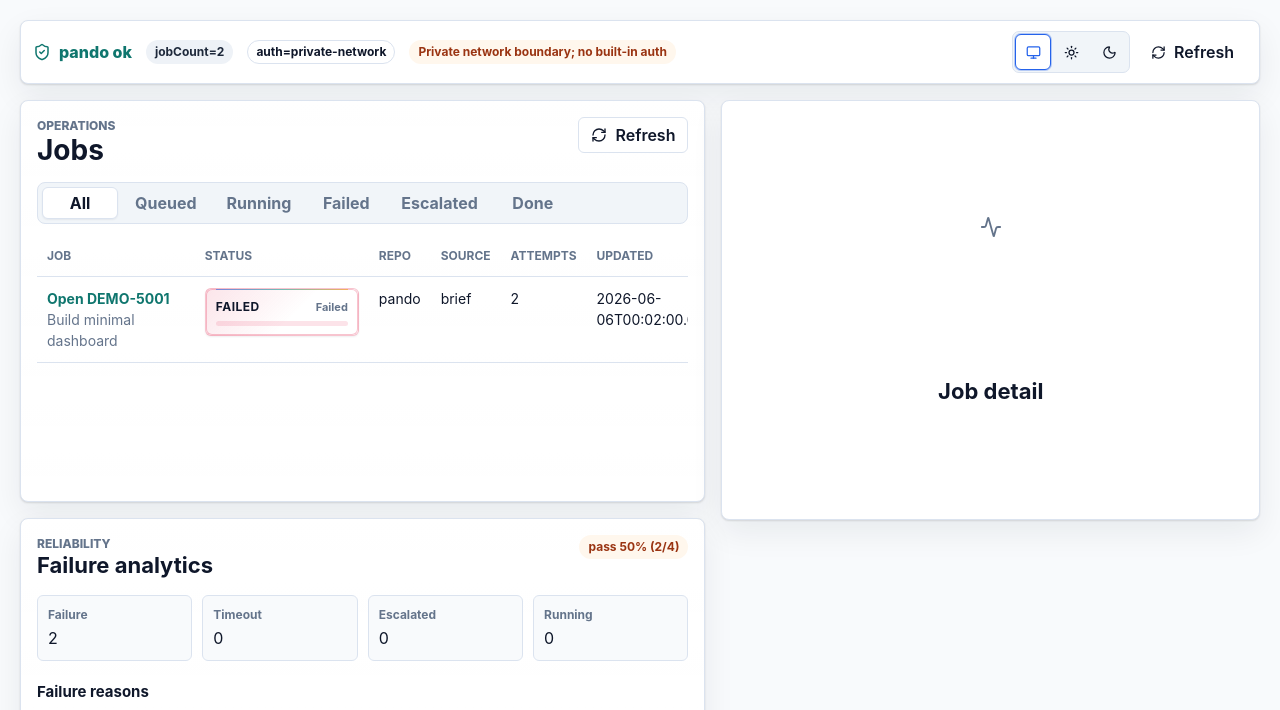
Test: DashboardApp › shows the API branch in the context strip, not the worktree slug
Click the button "Open DEMO-5001".
click(108, 299)  # box x1=47 y1=292 x2=170 y2=306
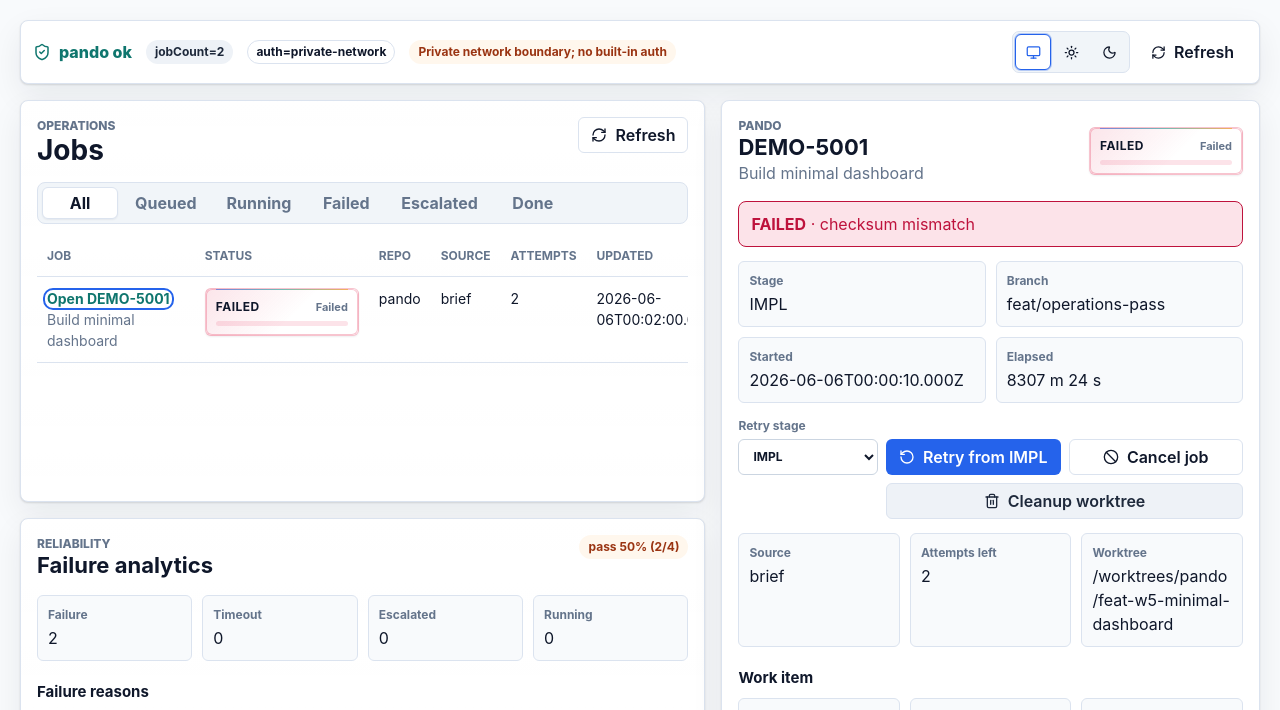
Expected: the text "feat/operations-pass" is shown, x1=1007 y1=294 x2=1165 y2=314
